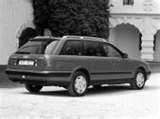car: (2, 32, 156, 102)
